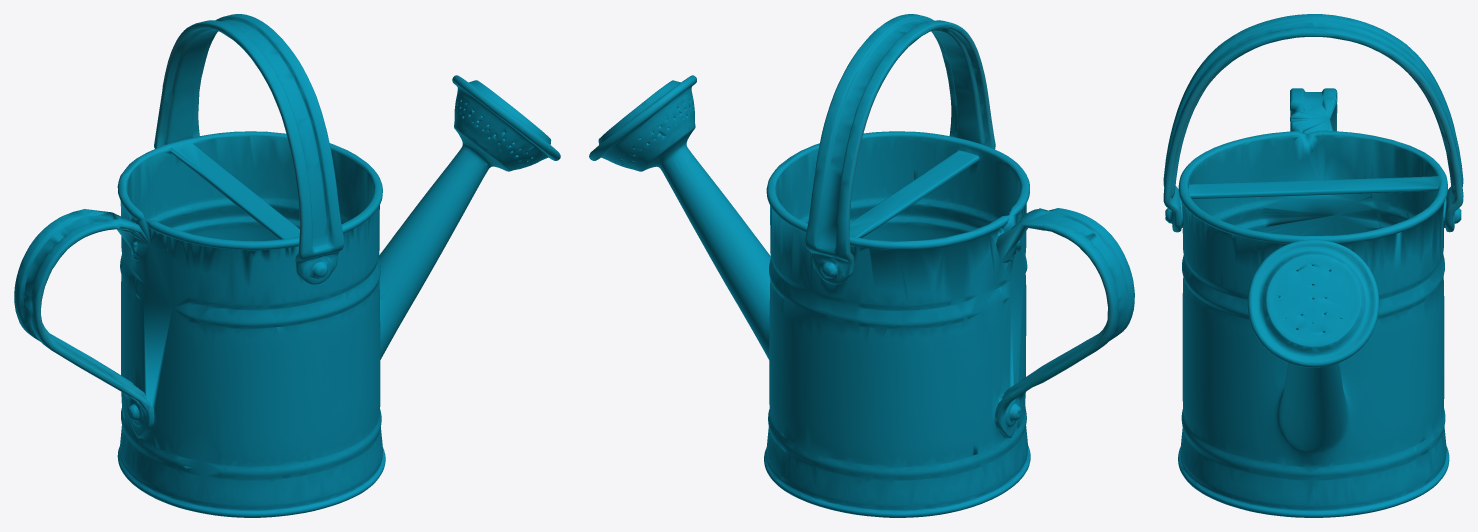
Rendered from Regadera.fbx.
3 renders of one model, left to right at view 1: azimuth 30°, elevation 25°; view 2: azimuth 150°, elevation 25°; view 3: azimuth 270°, elevation 25°, orthographic.
Visible parts, largest first — view 1: texture_pbr_v128; view 2: texture_pbr_v128; view 3: texture_pbr_v128.
Boxes of the visible parts, <box> form: texture_pbr_v128: <box>14,14,560,517</box>; texture_pbr_v128: <box>589,14,1134,517</box>; texture_pbr_v128: <box>1163,14,1463,517</box>.
Size of the model in its own units: 120 by 94.82 by 58.74.
1 material, 1 textured.
